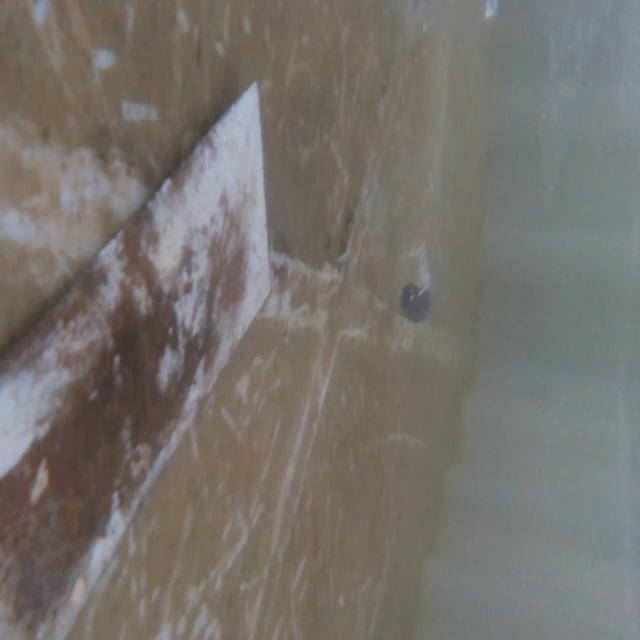metal: (0, 65, 274, 639)
plastic bottle: (338, 55, 468, 350)
